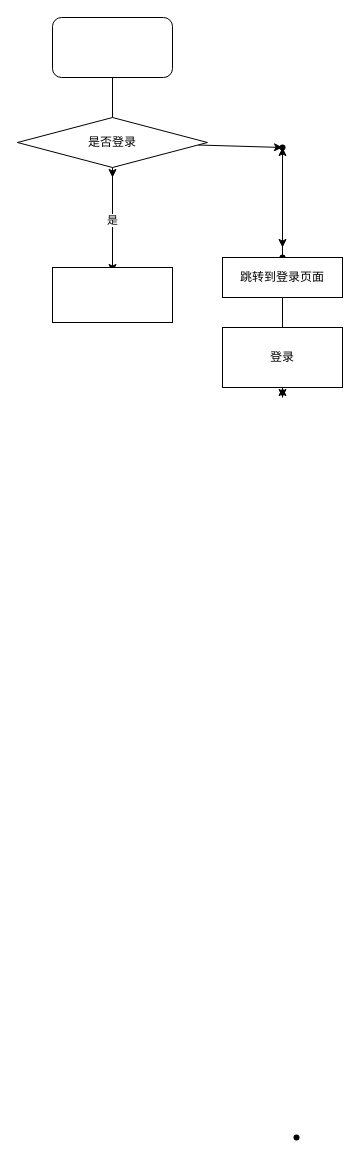
This 360x1175 diagram has some shape labels left out. Each missing label, with the centre of its shape:
访问页面: pixel 112 47
验证token: pixel 112 294
